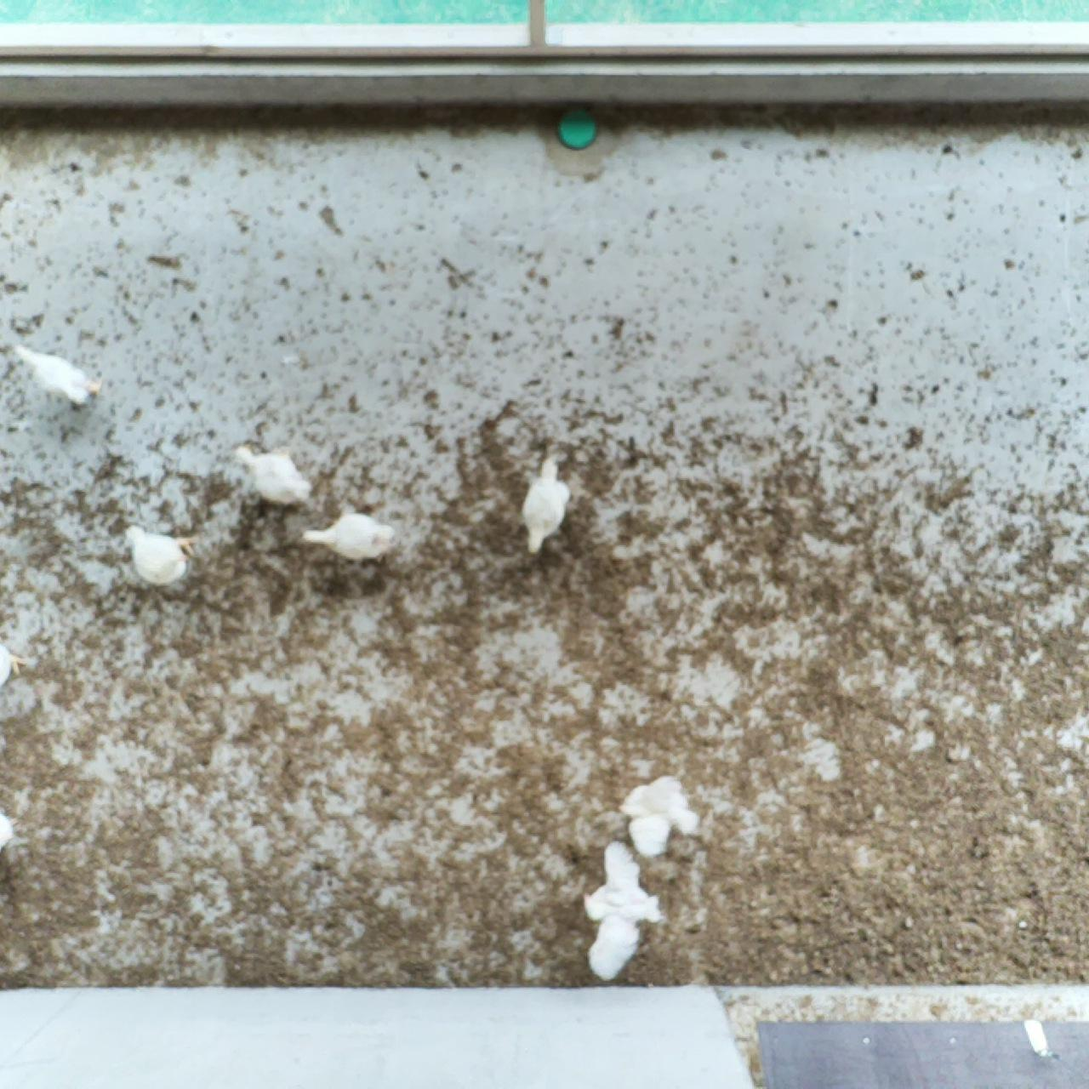chicken: (580, 837, 663, 984), (616, 770, 698, 860), (13, 338, 102, 411), (519, 457, 576, 562), (296, 509, 398, 567), (117, 520, 197, 589), (234, 441, 314, 508), (0, 638, 26, 691), (0, 799, 21, 858)
